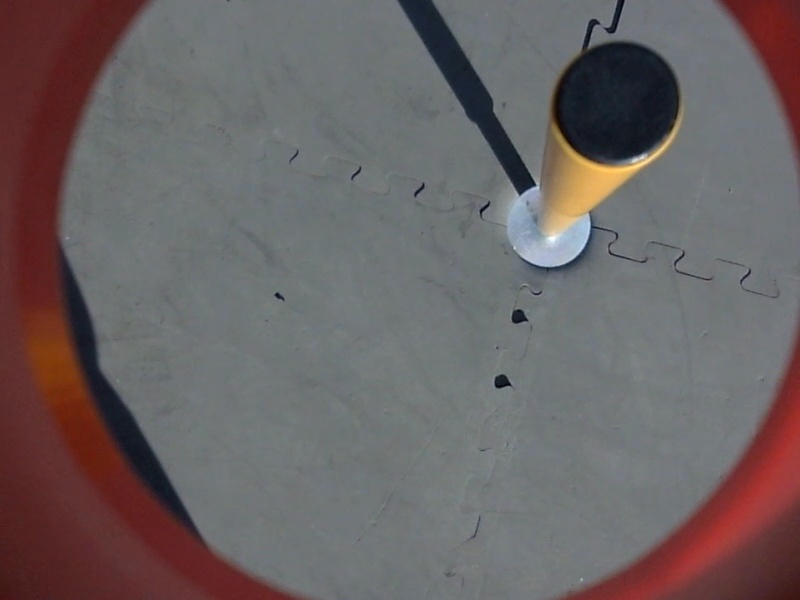tip: (543, 42, 698, 181)
